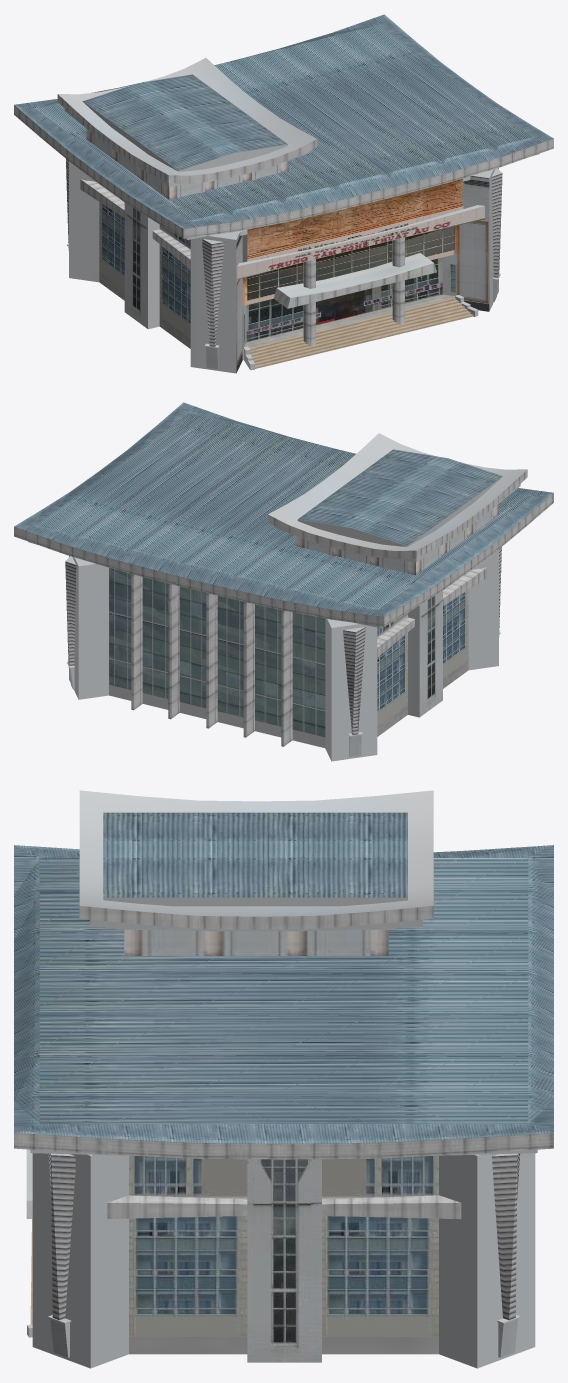
The picture shows the model from 3 angles, top to bottom: view 1: azimuth 30°, elevation 25°; view 2: azimuth 150°, elevation 25°; view 3: azimuth 270°, elevation 25°; orthographic projection. The views are drawn at different scales.
Parts seen in each view (by area): view 1: HN653_TrungTamNgheThuatAuCo; view 2: HN653_TrungTamNgheThuatAuCo; view 3: HN653_TrungTamNgheThuatAuCo.
Boxes of the visible parts, bbox=[...] form: HN653_TrungTamNgheThuatAuCo: bbox=[14, 14, 553, 373]; HN653_TrungTamNgheThuatAuCo: bbox=[14, 402, 553, 761]; HN653_TrungTamNgheThuatAuCo: bbox=[14, 790, 553, 1368].
Bounding box in the file's own units: 50 × 25.86 × 39.66.
1 material, 1 textured.
